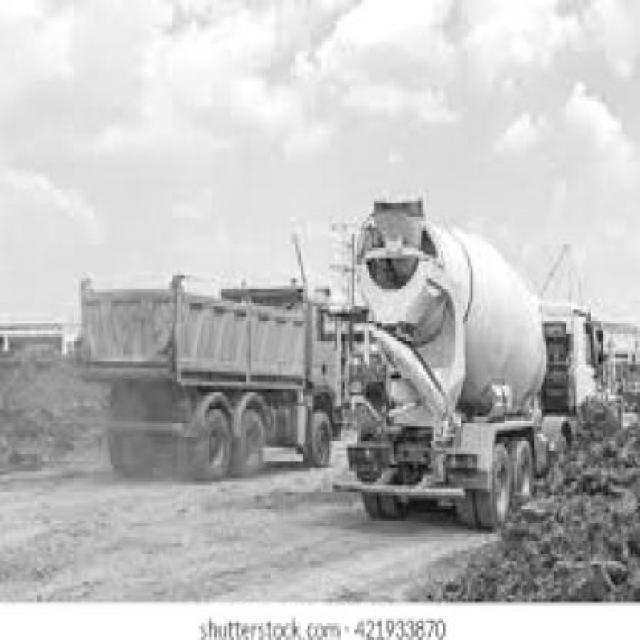Box Truck: (78, 272, 345, 481)
Concrete Mixer: (333, 200, 604, 531)
